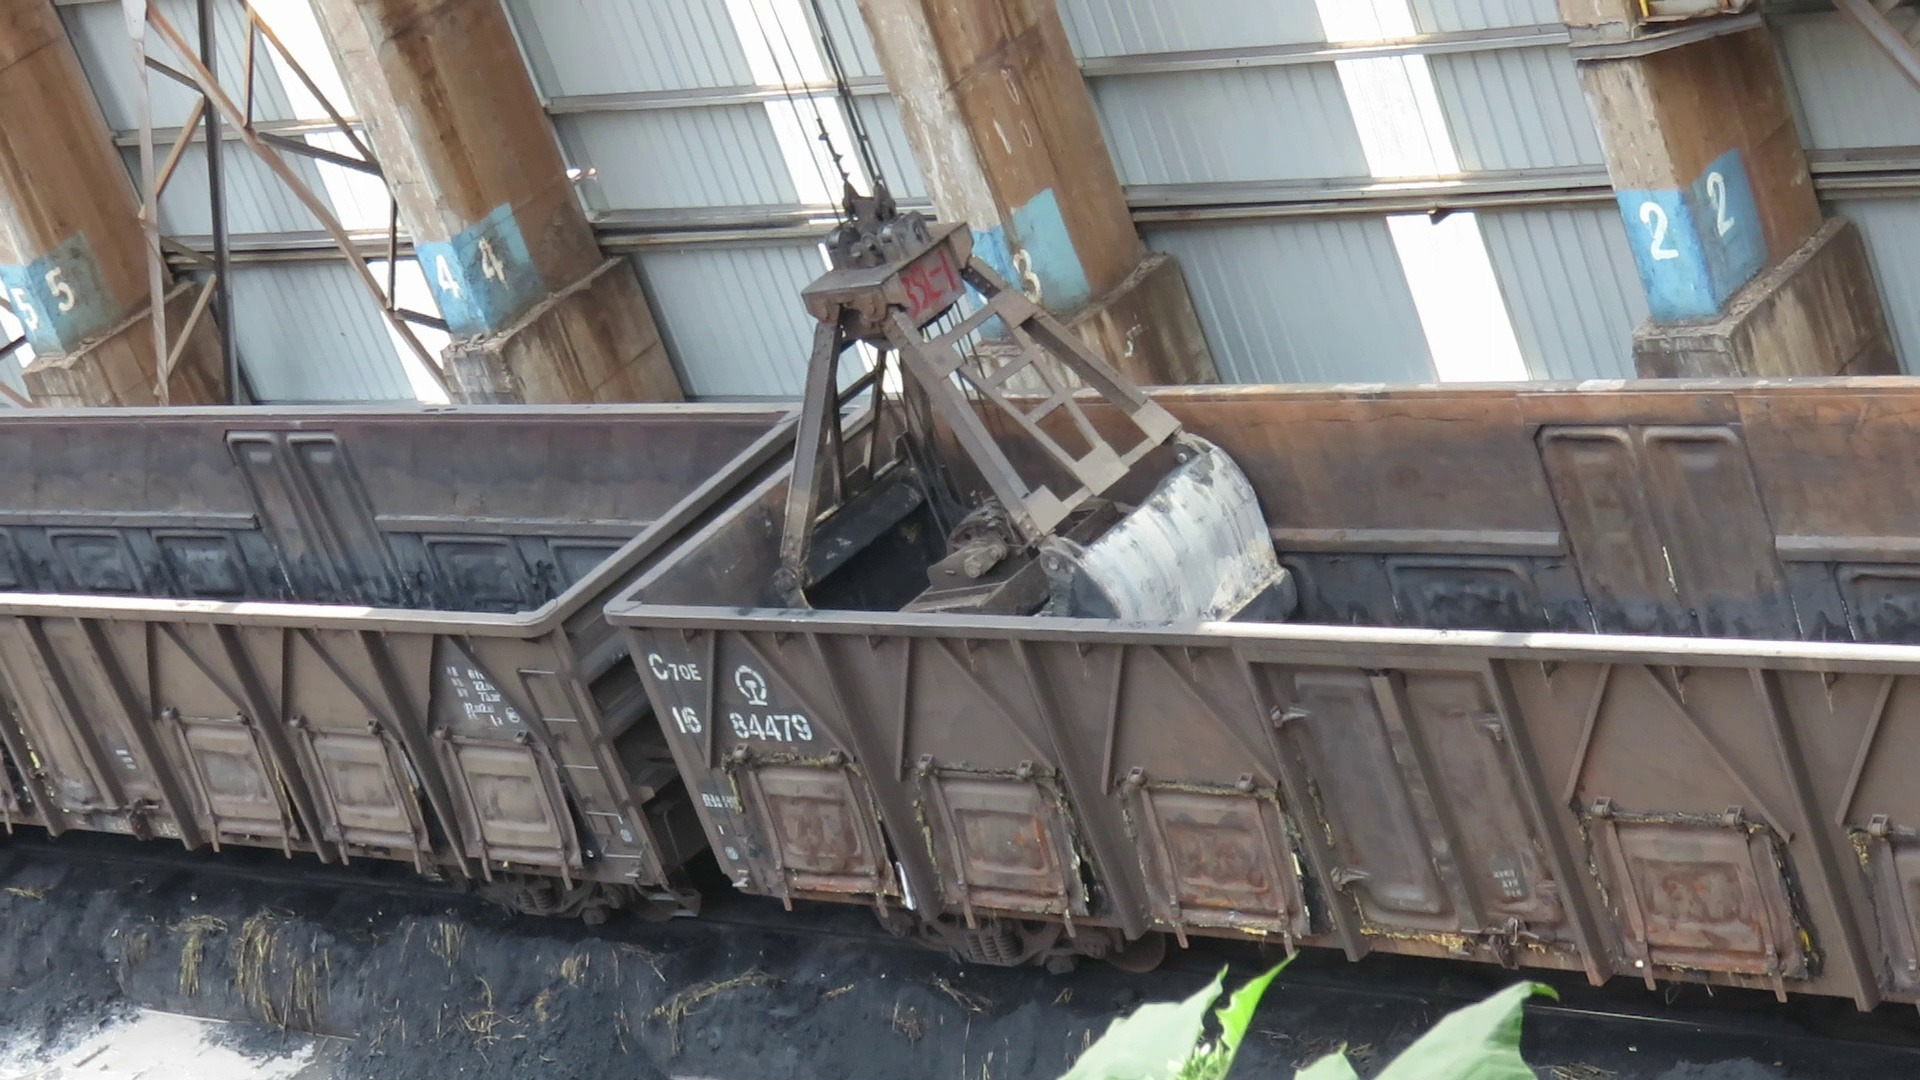grab: (767, 174, 1305, 646)
